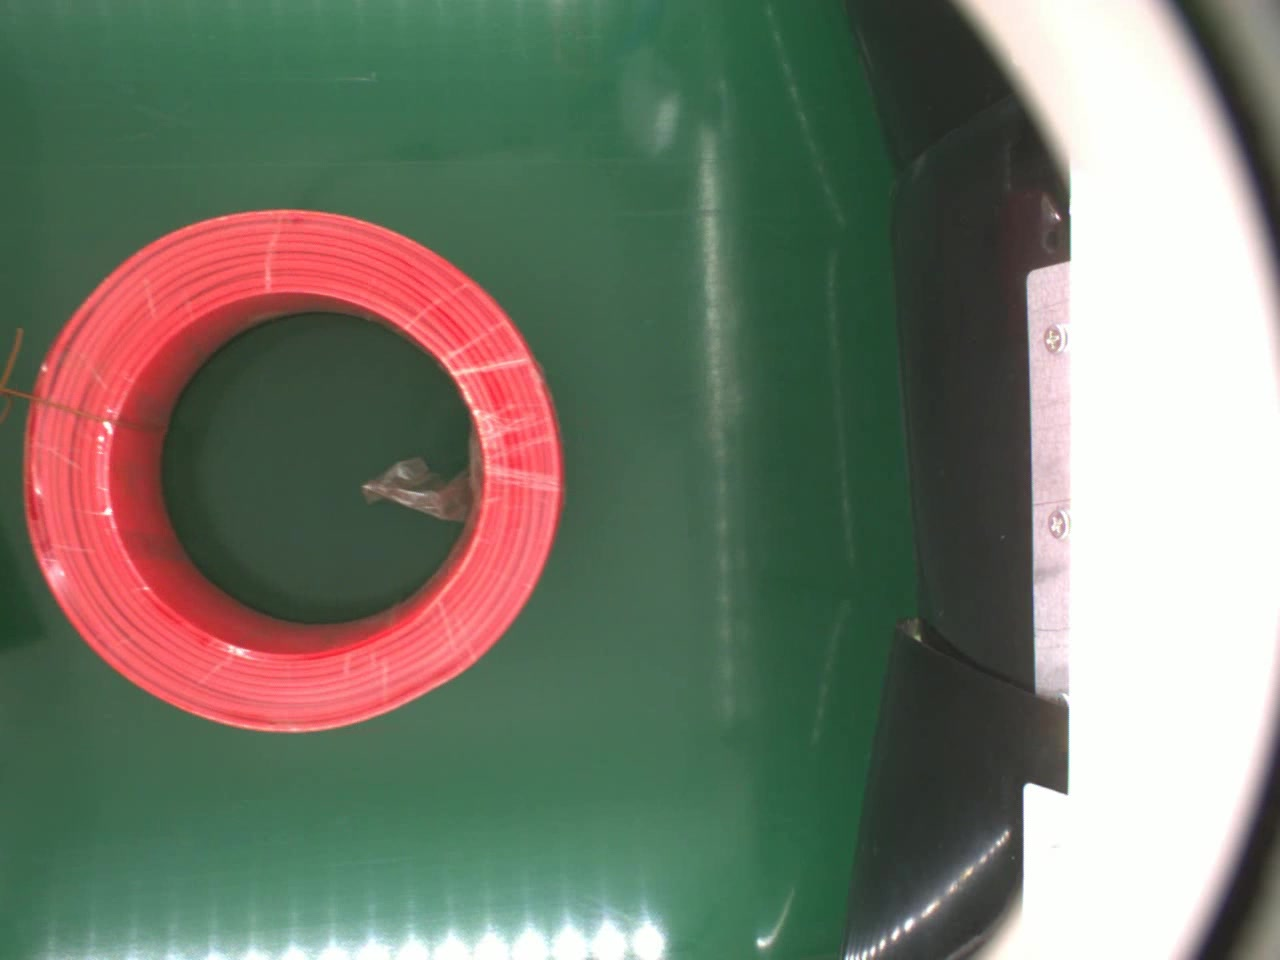red: (21, 207, 563, 733)
